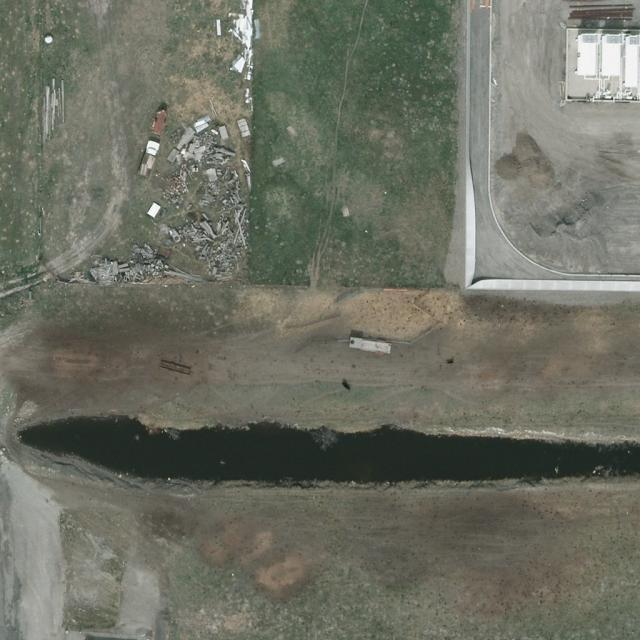vehicle: (134, 140, 163, 180)
